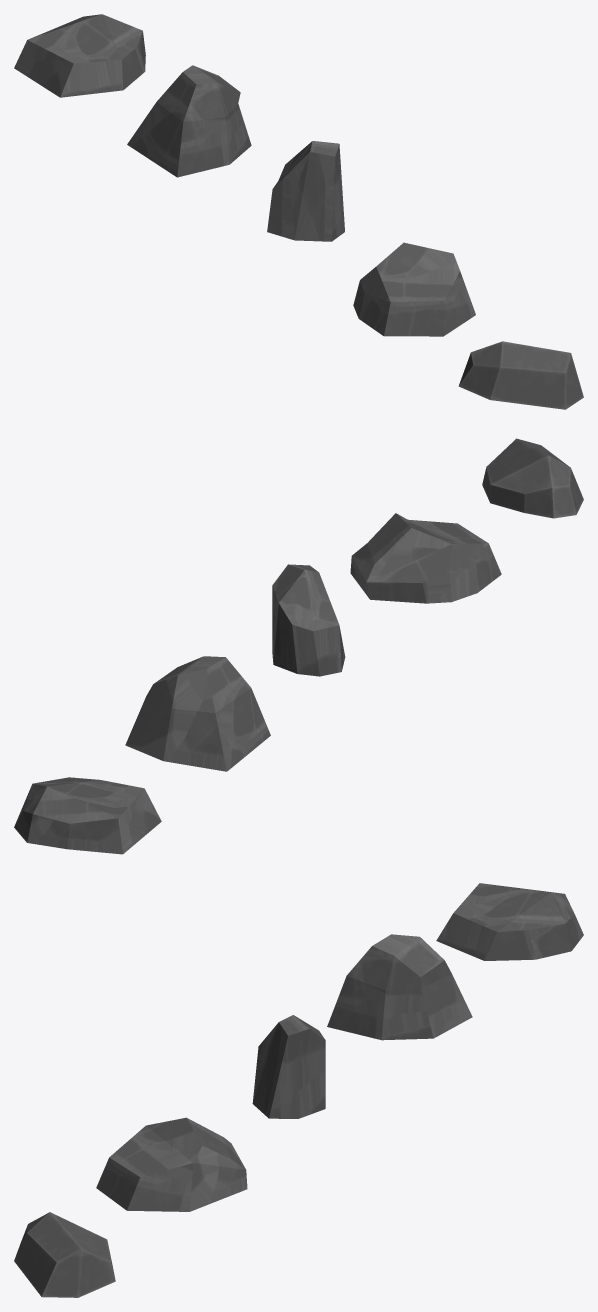
File: Low_Poly_Rock_Set.glb
3 renders of one model, top to bottom at view 1: azimuth 30°, elevation 25°; view 2: azimuth 150°, elevation 25°; view 3: azimuth 330°, elevation 25°, orthographic. The views are drawn at different scales.
Visible parts, largest first — view 1: unnamed (×5); view 2: unnamed (×5); view 3: unnamed (×5).
Boxes of the visible parts, left/top/right/bottom form: unnamed (×5): left=14, top=14, right=583, bottom=409; unnamed (×5): left=14, top=438, right=583, bottom=854; unnamed (×5): left=14, top=883, right=583, bottom=1297.
Size of the model in its own units: 181 by 137 by 1377.
1 material, 1 textured.
